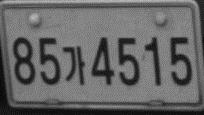1: (143, 35, 161, 86)
4: (90, 36, 115, 85)
5: (168, 35, 193, 86), (117, 36, 140, 86), (38, 36, 60, 85)
8: (11, 36, 35, 84)
가: (62, 45, 86, 85)
